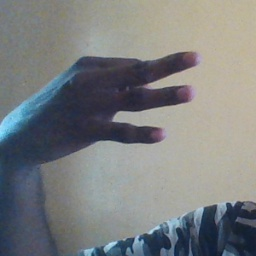K: (21, 51, 205, 159)
